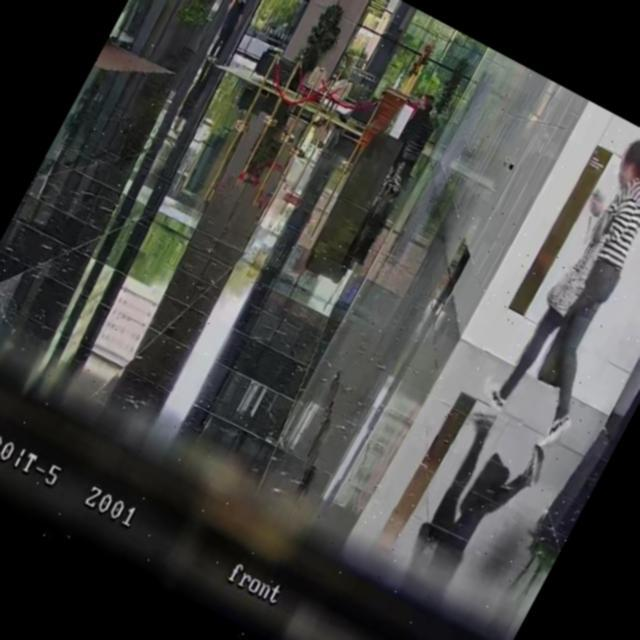person: (477, 126, 640, 452), (202, 0, 256, 65), (397, 91, 442, 151)
